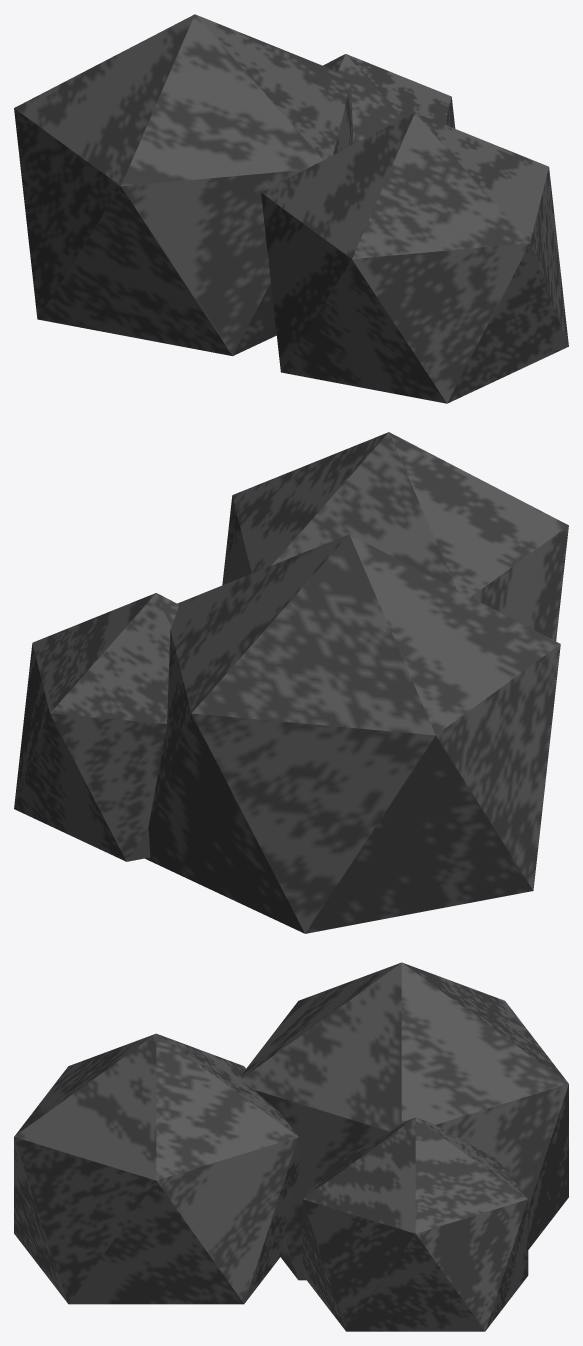
The model's file is kamyszkiJeden.fbx.
3 renders of one model, top to bottom at view 1: azimuth 30°, elevation 25°; view 2: azimuth 150°, elevation 25°; view 3: azimuth 270°, elevation 25°, orthographic. The views are drawn at different scales.
Visible parts, largest first — view 1: Icosphere; view 2: Icosphere; view 3: Icosphere.
Boxes of the visible parts, x1,y1,x2,y2 form: Icosphere: [14, 14, 568, 403]; Icosphere: [14, 432, 568, 933]; Icosphere: [14, 962, 568, 1331].
Size of the model in its own units: 91.35 by 55.24 by 108.
